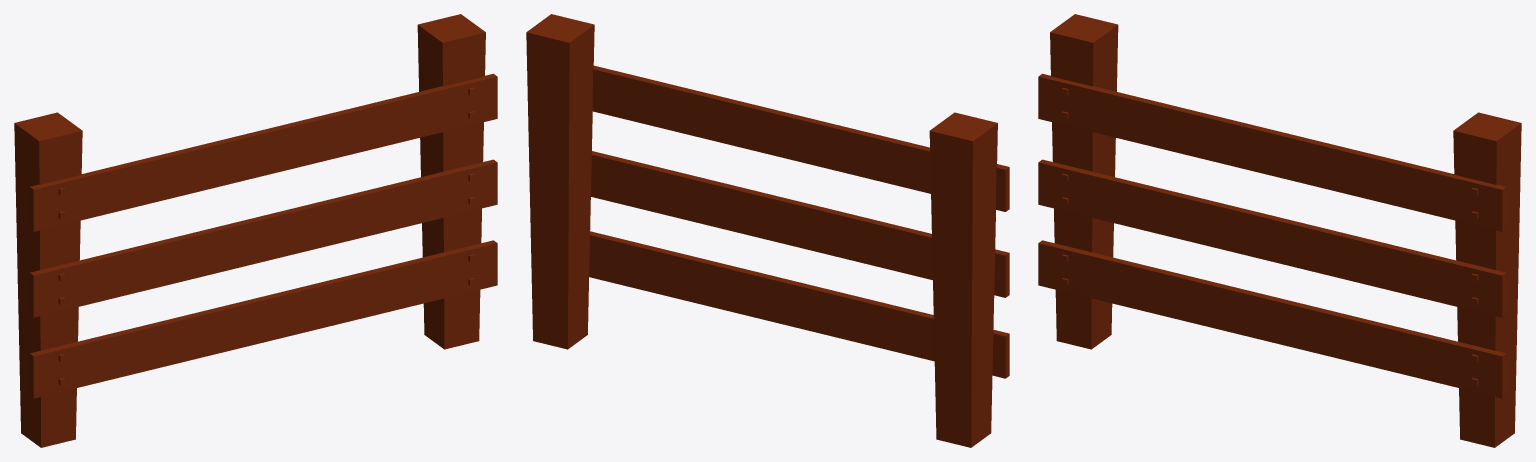
The model's file is fence 1.FBX.
3 views of the same model, side by side, from view 1: azimuth 30°, elevation 25°; view 2: azimuth 150°, elevation 25°; view 3: azimuth 330°, elevation 25° (orthographic).
Parts seen in each view (by area): view 1: Fence_01; view 2: Fence_01; view 3: Fence_01.
Part boxes in pixels (left/top/right/bottom): Fence_01: left=14, top=14, right=497, bottom=447; Fence_01: left=526, top=14, right=1009, bottom=447; Fence_01: left=1038, top=14, right=1521, bottom=447.
Size of the model in its own units: 67.92 by 43.31 by 7.49.
